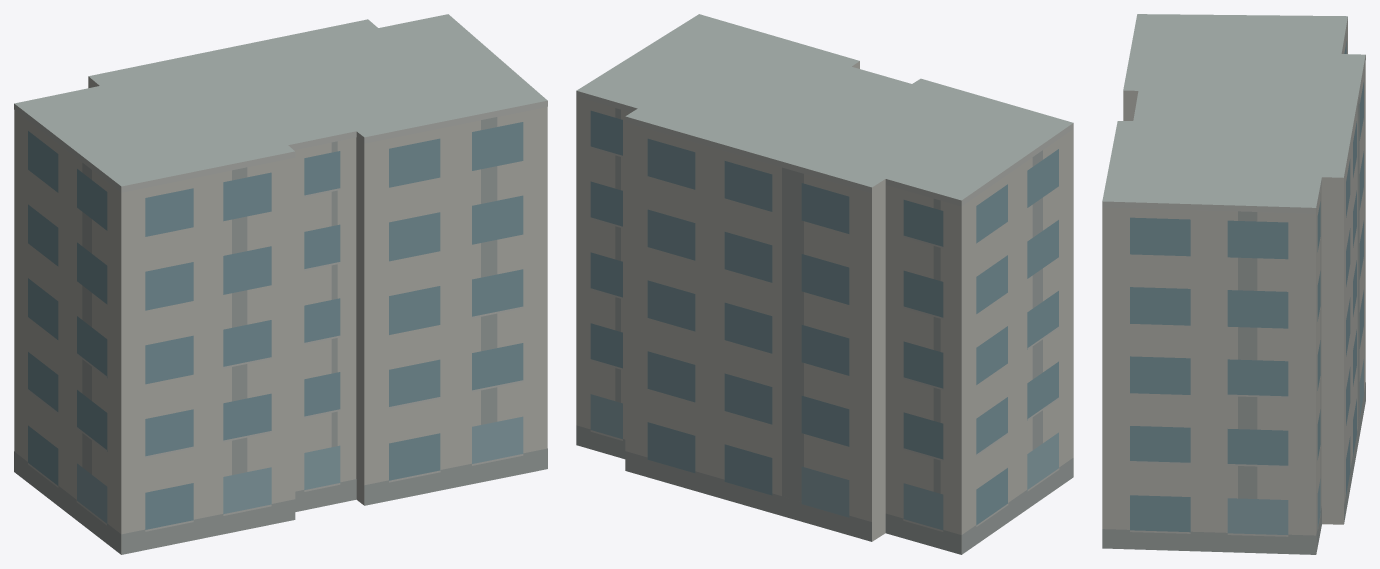
Rendered from survey-upis-32803907.glb.
3 views of the same model, side by side, from view 1: azimuth 30°, elevation 25°; view 2: azimuth 150°, elevation 25°; view 3: azimuth 270°, elevation 25° (orthographic). The views are drawn at different scales.
Parts seen in each view (by area): view 1: survey-upis-32803907.tmp; view 2: survey-upis-32803907.tmp; view 3: survey-upis-32803907.tmp.
Boxes of the visible parts, box(x1,y1,x2,y2) form: survey-upis-32803907.tmp: box(14, 14, 547, 554); survey-upis-32803907.tmp: box(576, 14, 1073, 554); survey-upis-32803907.tmp: box(1102, 14, 1365, 554).
Bounding box in the file's own units: 17.39 × 14.5 × 9.99.
